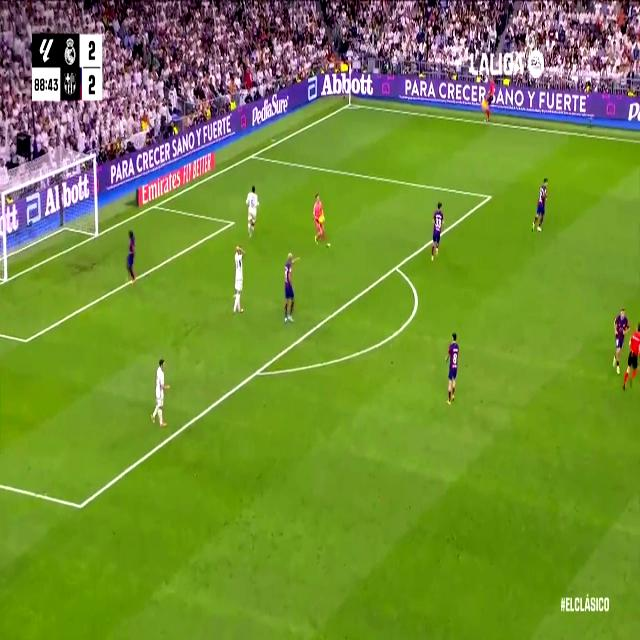bigarea_bottom_inner: (74, 489, 88, 522)
bigarea_top_inner: (484, 185, 494, 208)
bigarea_top_outter: (248, 146, 258, 162)
bottom_arc_area_intersection: (251, 358, 263, 384)
corner: (344, 97, 356, 111)
smallarea_bottom_inner: (21, 328, 31, 352)
smallarea_top_inner: (227, 212, 236, 232)
smallarea_top_outter: (152, 199, 160, 212)
top_arc_area_intersection: (391, 255, 401, 277)
